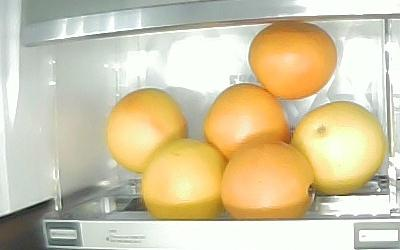grapefruit: (290, 101, 388, 196), (220, 141, 315, 218), (140, 138, 225, 221), (106, 88, 187, 174), (248, 21, 337, 99), (204, 83, 290, 162)
